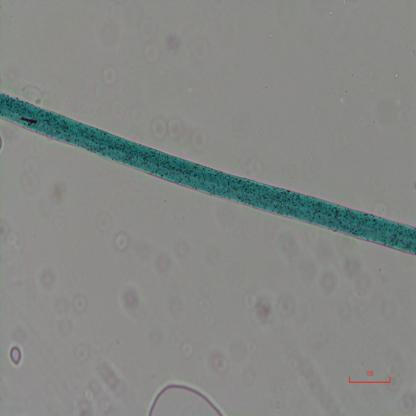Air bubble: (143, 378, 223, 416)
Background material: (273, 227, 377, 302), (77, 361, 128, 415), (365, 90, 416, 128), (245, 289, 294, 327), (54, 297, 90, 331), (149, 114, 185, 142), (138, 21, 161, 63), (119, 273, 143, 307), (188, 127, 212, 156), (163, 31, 185, 56), (44, 180, 67, 203), (245, 155, 265, 180), (0, 230, 21, 253), (7, 340, 24, 368), (176, 335, 195, 360), (155, 247, 171, 273), (210, 350, 226, 376), (112, 228, 129, 252), (42, 271, 56, 294), (101, 66, 116, 86), (388, 66, 400, 81)
Microfibre: (0, 94, 416, 256)
